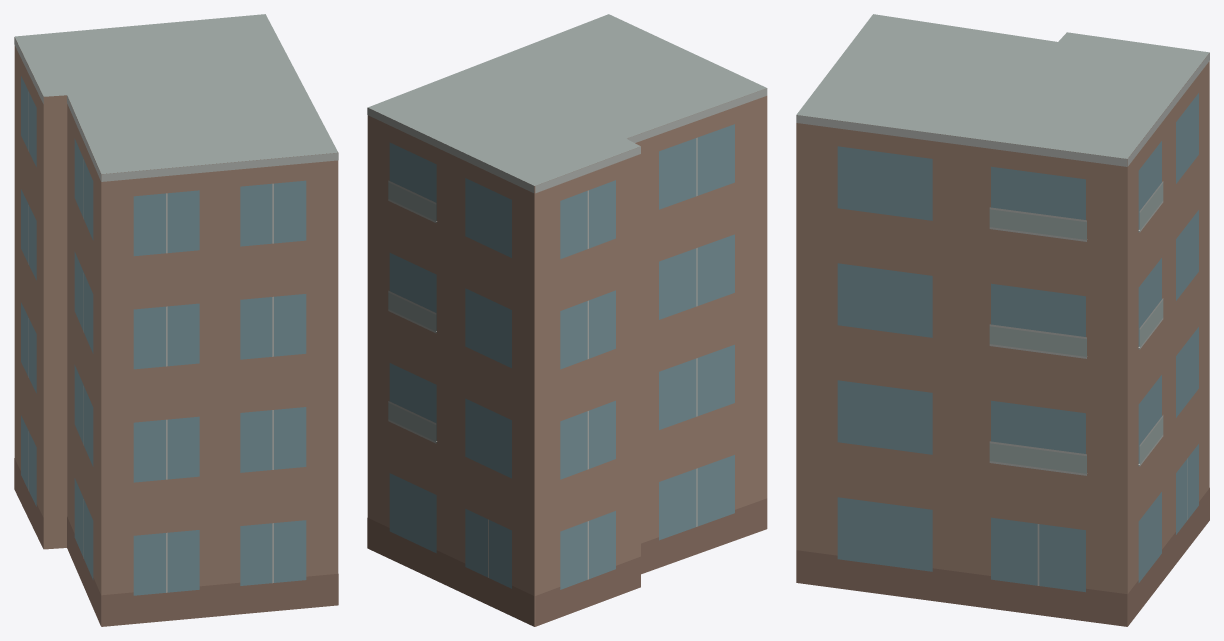
The model's file is survey-upis-32733216.glb.
3 renders of one model, left to right at view 1: azimuth 30°, elevation 25°; view 2: azimuth 150°, elevation 25°; view 3: azimuth 270°, elevation 25°, orthographic. The views are drawn at different scales.
Visible parts, largest first — view 1: survey-upis-32733216.tmp; view 2: survey-upis-32733216.tmp; view 3: survey-upis-32733216.tmp.
Boxes of the visible parts, bbox=[...] form: survey-upis-32733216.tmp: bbox=[14, 14, 338, 626]; survey-upis-32733216.tmp: bbox=[367, 14, 767, 626]; survey-upis-32733216.tmp: bbox=[796, 14, 1209, 626].
Size of the model in its own units: 9.44 by 14.2 by 11.38.
